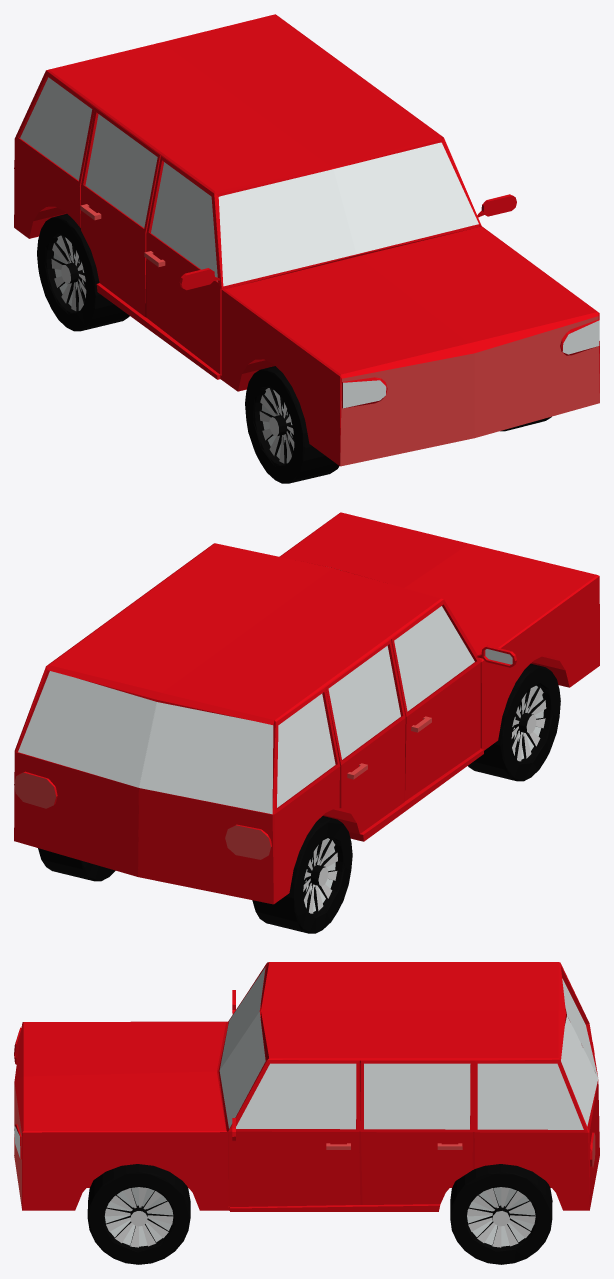
The model's file is Car.glb.
3 views of the same model, one above another, from view 1: azimuth 30°, elevation 25°; view 2: azimuth 150°, elevation 25°; view 3: azimuth 270°, elevation 25° (orthographic). The views are drawn at different scales.
Parts seen in each view (by area): view 1: Car; view 2: Car; view 3: Car.
Part boxes in pixels (bbox=[...]): Car: bbox=[14, 14, 599, 483]; Car: bbox=[14, 512, 599, 933]; Car: bbox=[14, 962, 599, 1264].
Size of the model in its own units: 2.58 by 1.69 by 4.48.
